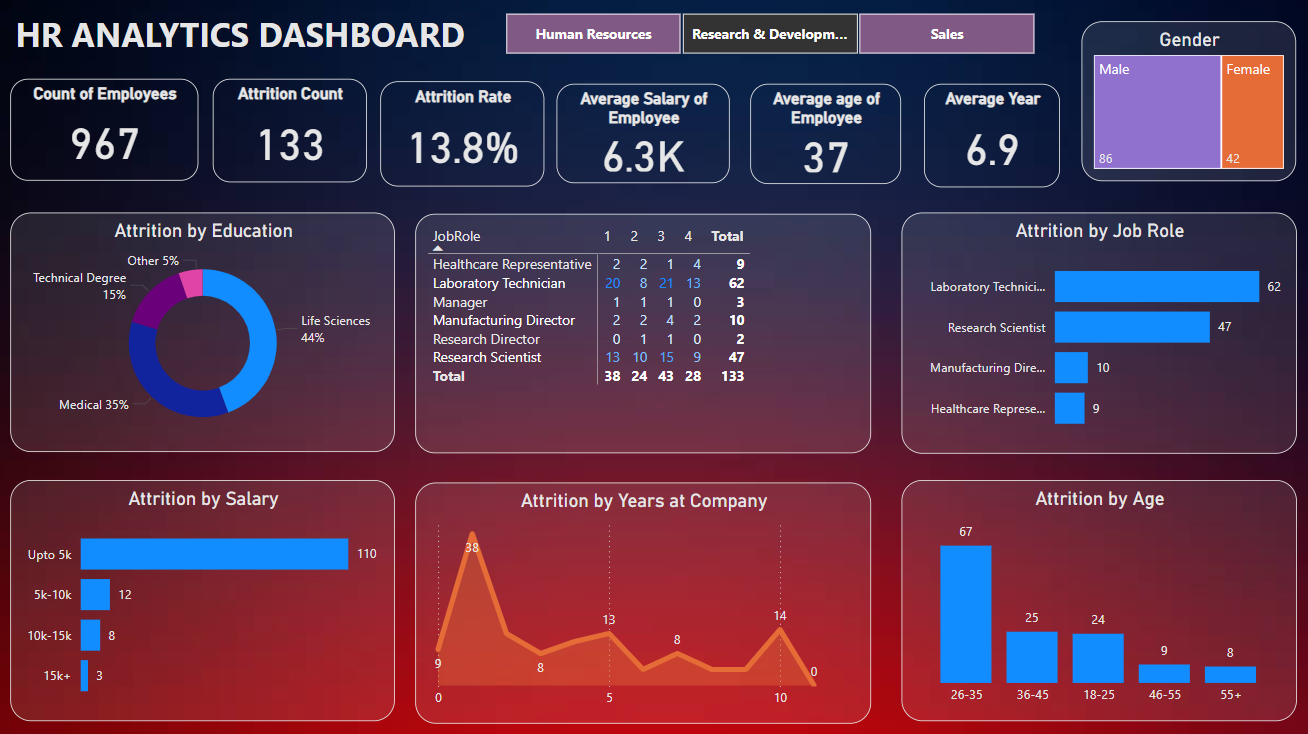

The page's visual inventory and layout, read from the dashboard file:
{"tool":"powerbi","page":{"name":"Page 1","canvas":[1280,720],"ordinal":0},"visuals":[{"type":"card","title":"Count of Employees","fields":{"Values":["CountNonNull(HR_Analytics.EmpID)"]},"box":[15.7,81.4,181.4,98.6],"z":0},{"type":"card","title":"Attrition Count","fields":{"Values":["Sum(HR_Analytics.AttritionCount)"]},"box":[211.4,81.4,148.6,100],"z":1000},{"type":"card","title":"Attrition Rate","fields":{"Values":["HR_Analytics.AttritionRate"]},"box":[372.9,82.9,158.6,101.4],"z":2000},{"type":"card","title":"Average age of Employee","fields":{"Values":["Avg(HR_Analytics.Age)"]},"box":[730,85.7,145.7,97.1],"z":3000},{"type":"card","title":"Average Salary of Employee","fields":{"Values":["Avg(HR_Analytics.MonthlyIncome)"]},"box":[542.9,85.7,167.1,95.7],"z":4000},{"type":"card","title":"Average Year","fields":{"Values":["Avg(HR_Analytics.YearsAtCompany)"]},"box":[897.1,85.7,131.4,100],"z":5000},{"type":"donutChart","title":"Attrition by Education","fields":{"Category":["HR_Analytics.EducationField"],"Y":["Sum(HR_Analytics.AttritionCount)"]},"box":[15.7,210,371.4,231.4],"z":6000},{"type":"columnChart","title":"Attrition by Age","fields":{"Category":["HR_Analytics.AgeGroup"],"Y":["Sum(HR_Analytics.AttritionCount)"]},"box":[875.7,468.6,381.4,232.9],"z":7000},{"type":"pivotTable","title":"Job S","fields":{"Rows":["HR_Analytics.JobRole"],"Columns":["HR_Analytics.JobSatisfaction"],"Values":["Sum(HR_Analytics.AttritionCount)"]},"box":[407.1,211.4,440,231.4],"z":8000},{"type":"barChart","title":"Attrition by Salary","fields":{"Category":["HR_Analytics.SalarySlab"],"Y":["Sum(HR_Analytics.AttritionCount)"]},"box":[15.7,468.6,371.4,232.9],"z":9000},{"type":"barChart","title":"Attrition by Job Role","fields":{"Category":["HR_Analytics.JobRole"],"Y":["Sum(HR_Analytics.AttritionCount)"]},"box":[875.7,210,381.4,232.9],"z":10000},{"type":"areaChart","title":"Attrition by Years at Company","fields":{"Category":["HR_Analytics.YearsAtCompany"],"Y":["Sum(HR_Analytics.AttritionCount)"]},"box":[407.1,470,440,232.9],"z":11000},{"type":"treemap","title":"Gender","fields":{"Group":["HR_Analytics.Gender"],"Values":["Sum(HR_Analytics.AttritionCount)"]},"box":[1050,25.7,207.1,154.3],"z":12000},{"type":"slicer","fields":{"Values":["HR_Analytics.Department"]},"box":[468.6,11.4,560,52.9],"z":13000},{"type":"textbox","box":[15.7,11.4,452.9,52.9],"z":14000}]}

Visuals, with their boxes in screenshot pixels (x1, y1, x2, y2), scaled from the page's 1280x720 canvas onto the 1308x734 screenshot:
"Count of Employees" card: bbox=[16, 83, 201, 184]
"Attrition Count" card: bbox=[216, 83, 368, 185]
"Attrition Rate" card: bbox=[381, 85, 543, 188]
"Average age of Employee" card: bbox=[746, 87, 895, 186]
"Average Salary of Employee" card: bbox=[555, 87, 726, 185]
"Average Year" card: bbox=[917, 87, 1051, 189]
"Attrition by Education" donutChart: bbox=[16, 214, 396, 450]
"Attrition by Age" columnChart: bbox=[895, 478, 1285, 715]
"Job S" pivotTable: bbox=[416, 216, 866, 451]
"Attrition by Salary" barChart: bbox=[16, 478, 396, 715]
"Attrition by Job Role" barChart: bbox=[895, 214, 1285, 452]
"Attrition by Years at Company" areaChart: bbox=[416, 479, 866, 717]
"Gender" treemap: bbox=[1073, 26, 1285, 184]
slicer - HR_Analytics.Department: bbox=[479, 12, 1051, 66]
textbox: bbox=[16, 12, 479, 66]
